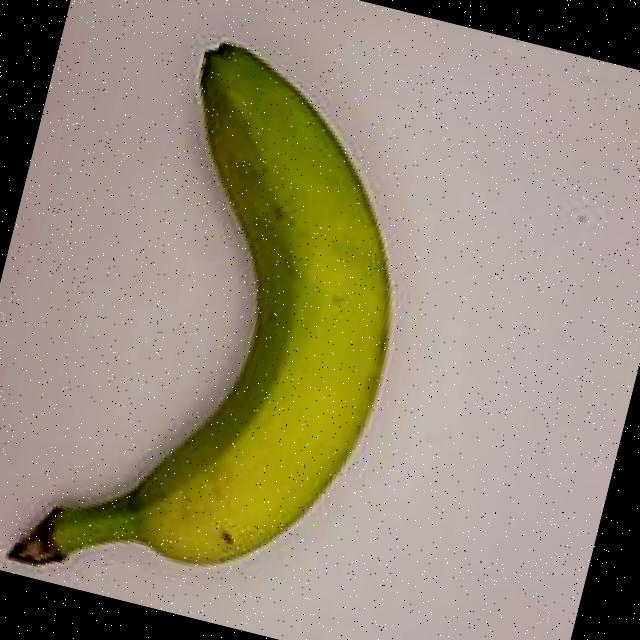Unripe: (0, 0, 509, 640)
